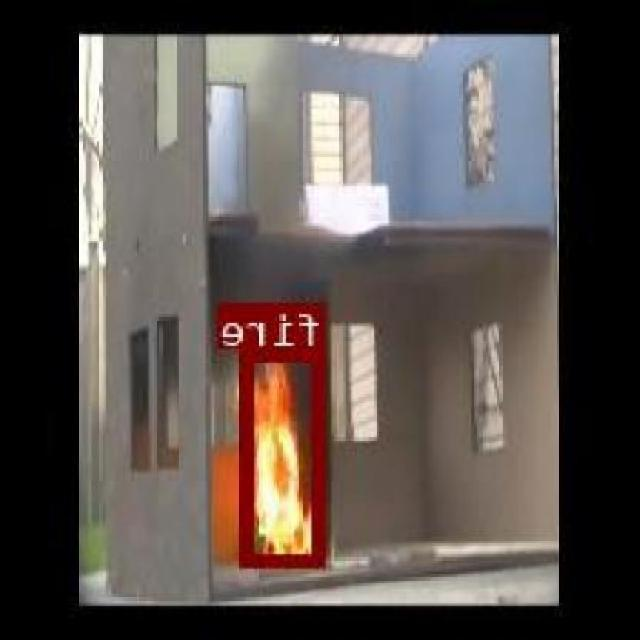Fire: (245, 346, 328, 566)
